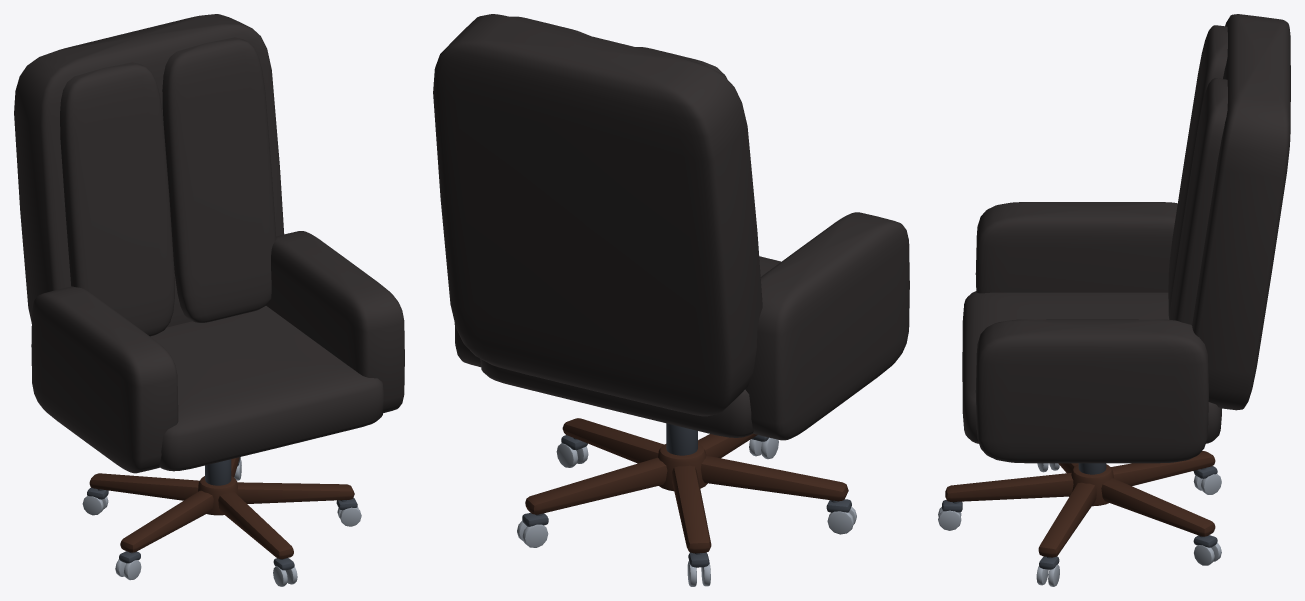
File: cadeira_presidente_preta.glb
The picture shows the model from 3 angles, left to right: view 1: azimuth 30°, elevation 25°; view 2: azimuth 150°, elevation 25°; view 3: azimuth 270°, elevation 25°; orthographic projection. The views are drawn at different scales.
Parts seen in each view (by area): view 1: cadeira_presidente_preta; view 2: cadeira_presidente_preta; view 3: cadeira_presidente_preta.
Boxes of the visible parts, x1=… form: cadeira_presidente_preta: x1=14, y1=14, x2=404, y2=586; cadeira_presidente_preta: x1=433, y1=14, x2=909, y2=586; cadeira_presidente_preta: x1=938, y1=14, x2=1290, y2=586.
Bounding box in the file's own units: 0.75 × 1.16 × 0.7864.
Materials: 1 (1 with a texture image).
